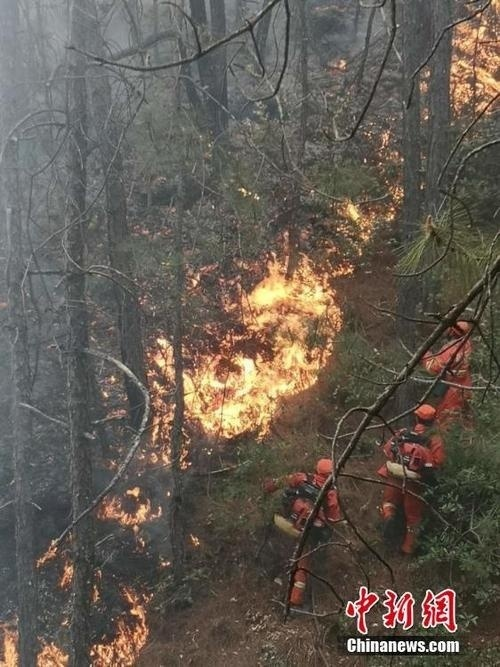fire: (145, 204, 376, 439), (0, 522, 159, 666), (448, 0, 500, 111), (100, 485, 163, 529)
